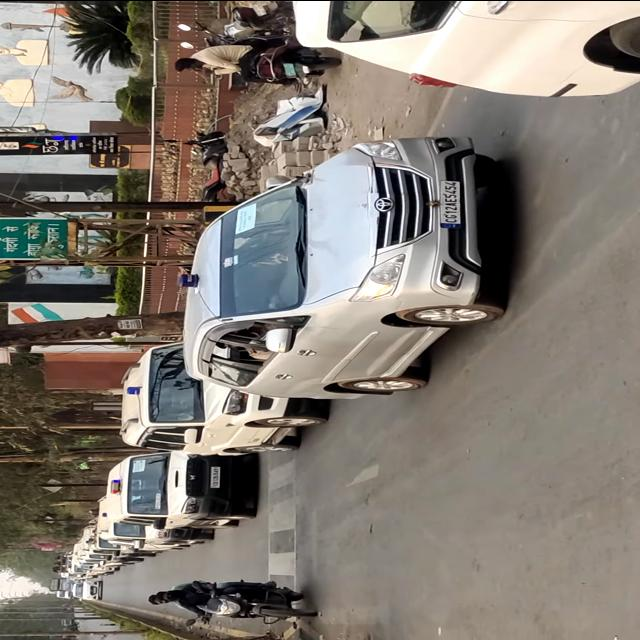emergency-vehicles: (168, 130, 524, 407), (109, 332, 327, 460), (100, 437, 256, 538)
